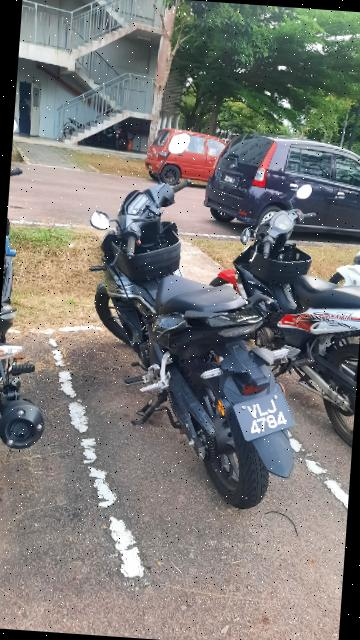License_Plate: (228, 387, 308, 442)
car: (200, 122, 360, 250), (141, 117, 246, 194)
motorcycle: (77, 127, 318, 514), (197, 179, 360, 446)
